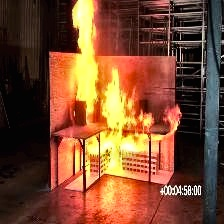fire: (55, 1, 162, 197)
